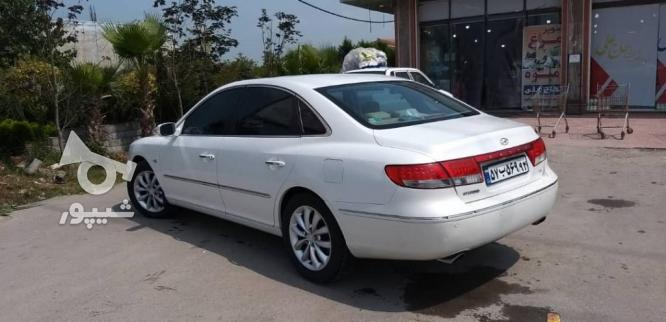car: (485, 155, 530, 185)
